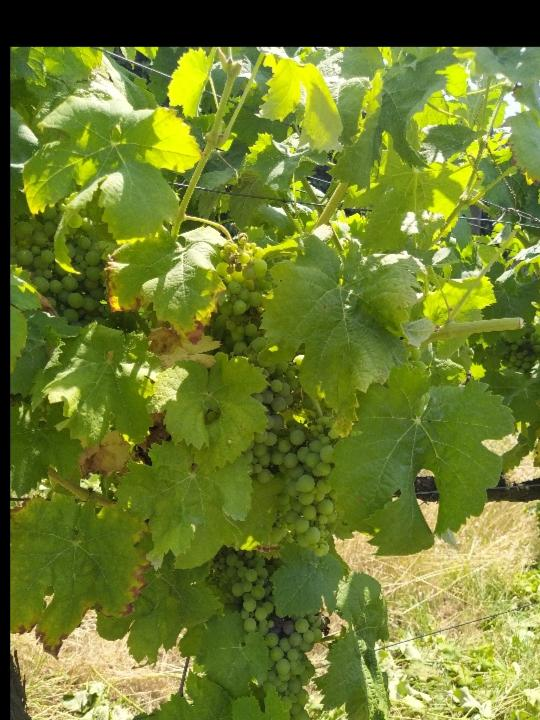grape: (213, 544, 329, 720), (205, 232, 305, 415), (11, 192, 117, 337), (269, 405, 344, 559)
